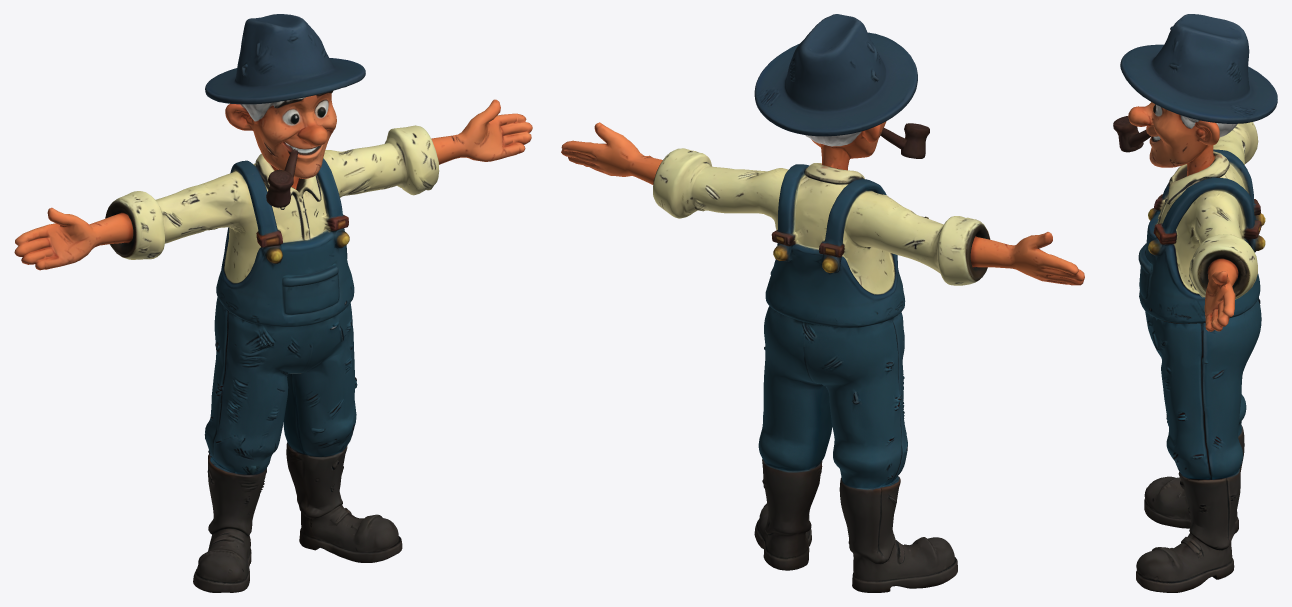
Rendered from nan_gangway.glb.
3 renders of one model, left to right at view 1: azimuth 30°, elevation 25°; view 2: azimuth 150°, elevation 25°; view 3: azimuth 270°, elevation 25°, orthographic. The views are drawn at different scales.
Parts seen in each view (by area): view 1: tripo_node_f12daa2a-43a0-41e1-b692-873fc0f8be93; view 2: tripo_node_f12daa2a-43a0-41e1-b692-873fc0f8be93; view 3: tripo_node_f12daa2a-43a0-41e1-b692-873fc0f8be93.
Part boxes in pixels (x1,y1,x2,y2): tripo_node_f12daa2a-43a0-41e1-b692-873fc0f8be93: [14, 14, 532, 592]; tripo_node_f12daa2a-43a0-41e1-b692-873fc0f8be93: [561, 14, 1084, 592]; tripo_node_f12daa2a-43a0-41e1-b692-873fc0f8be93: [1113, 14, 1277, 592].
Bounding box in the file's own units: 0.9801 × 0.978 × 0.2757.
1 material, 1 textured.
